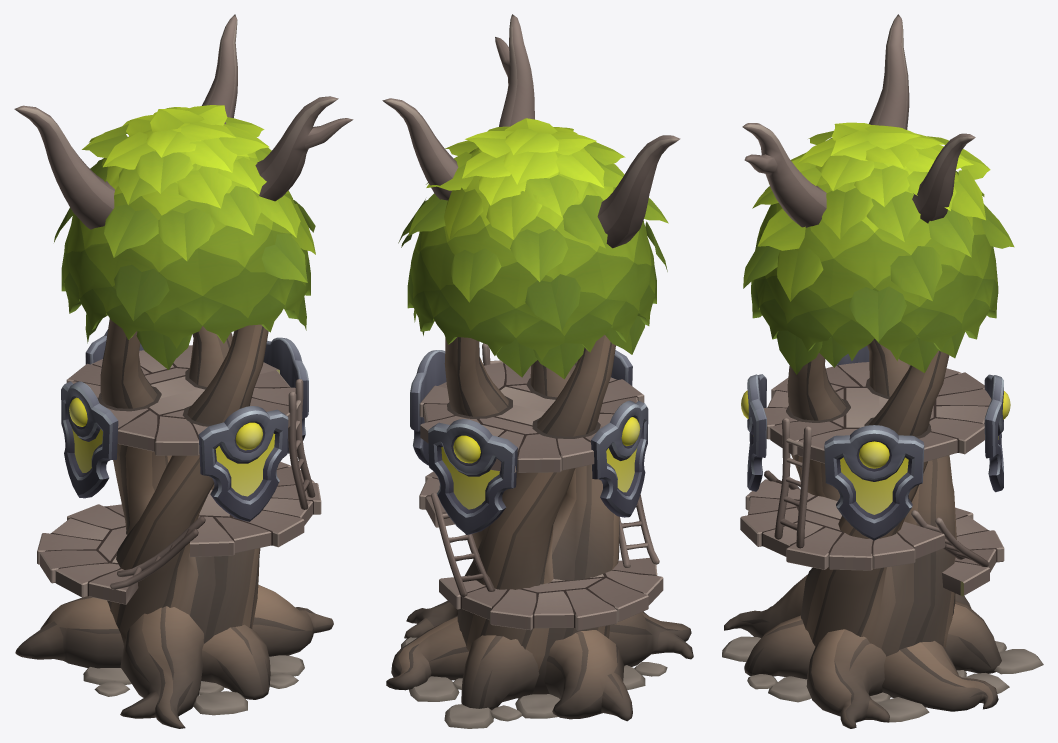
File: elf_tower_Lv3.fbx
3 renders of one model, left to right at view 1: azimuth 30°, elevation 25°; view 2: azimuth 150°, elevation 25°; view 3: azimuth 270°, elevation 25°, orthographic.
Parts seen in each view (by area): view 1: armiture_elf_tower_Lv3; view 2: armiture_elf_tower_Lv3; view 3: armiture_elf_tower_Lv3.
Part boxes in pixels (x1=…): armiture_elf_tower_Lv3: x1=14, y1=14, x2=353, y2=728; armiture_elf_tower_Lv3: x1=382, y1=14, x2=693, y2=728; armiture_elf_tower_Lv3: x1=722, y1=14, x2=1043, y2=728.
Bounding box in the file's own units: 6.4 × 12.15 × 6.04.
